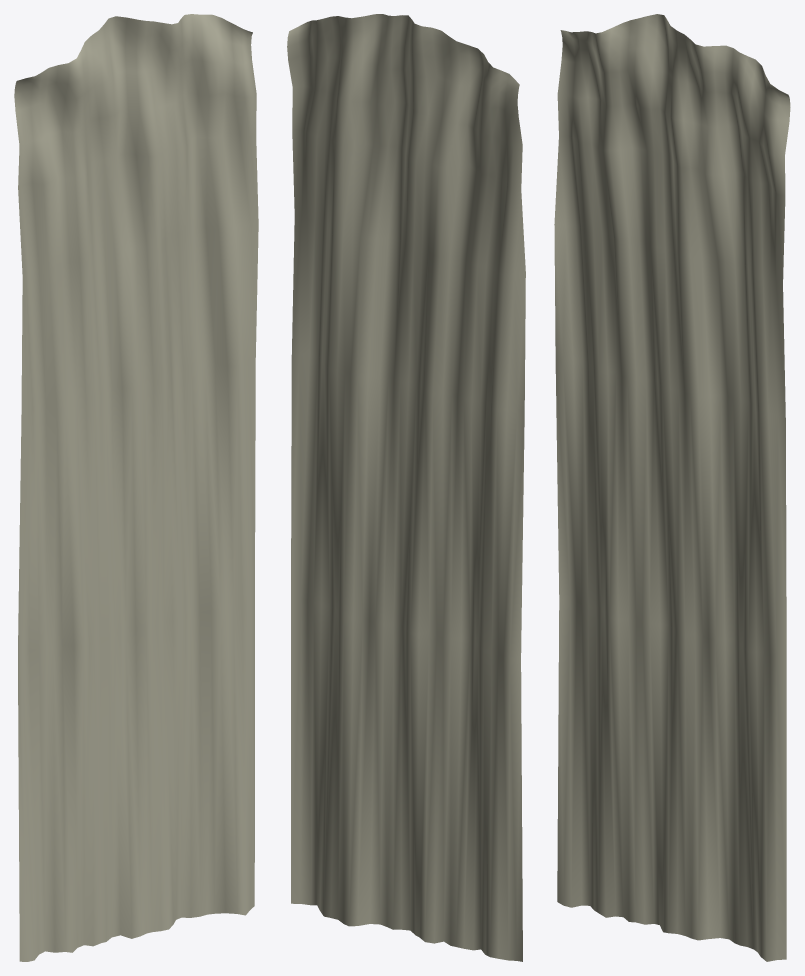
The model's file is cliff-skirt.glb.
The picture shows the model from 3 angles, left to right: view 1: azimuth 30°, elevation 25°; view 2: azimuth 150°, elevation 25°; view 3: azimuth 330°, elevation 25°; orthographic projection.
Visible parts, largest first — view 1: Unbroken deep cliff; view 2: Unbroken deep cliff; view 3: Unbroken deep cliff.
Boxes of the visible parts, x1,y1,x2,y2 form: Unbroken deep cliff: (14, 14, 258, 961); Unbroken deep cliff: (287, 14, 525, 961); Unbroken deep cliff: (554, 14, 790, 961).
Size of the model in its own units: 16 by 60.17 by 1.67.
